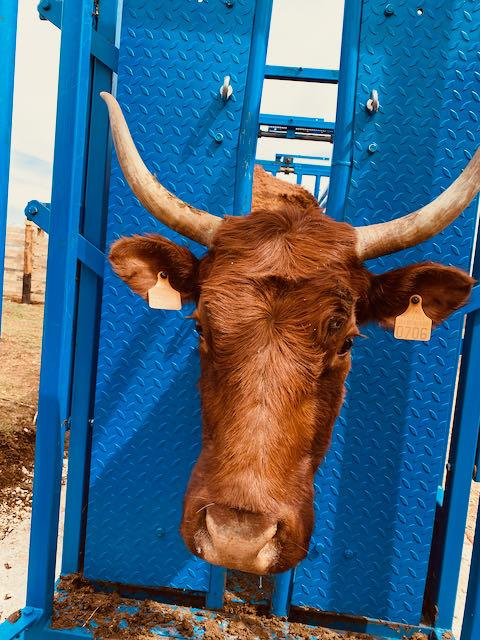muzzles: (183, 491, 294, 577)
